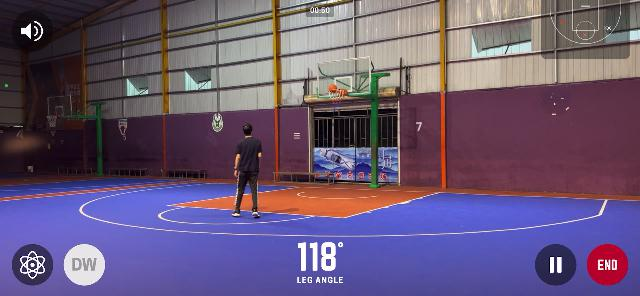ball: (328, 84, 338, 92)
basket: (328, 90, 346, 106)
